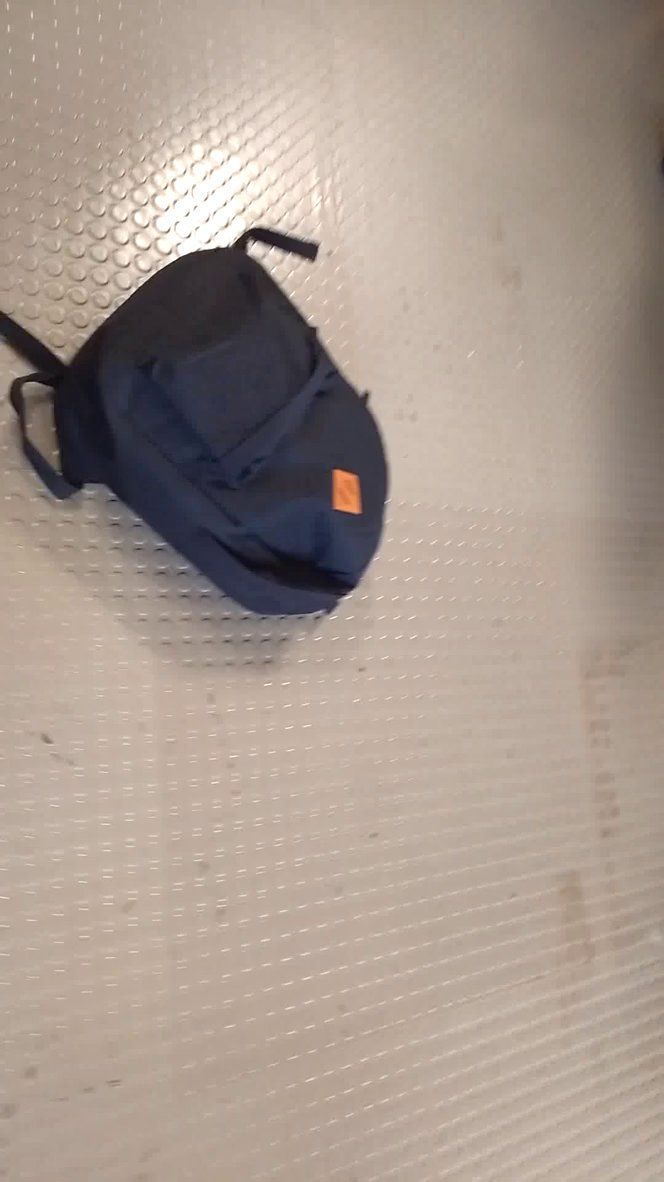bag: (3, 179, 401, 625)
